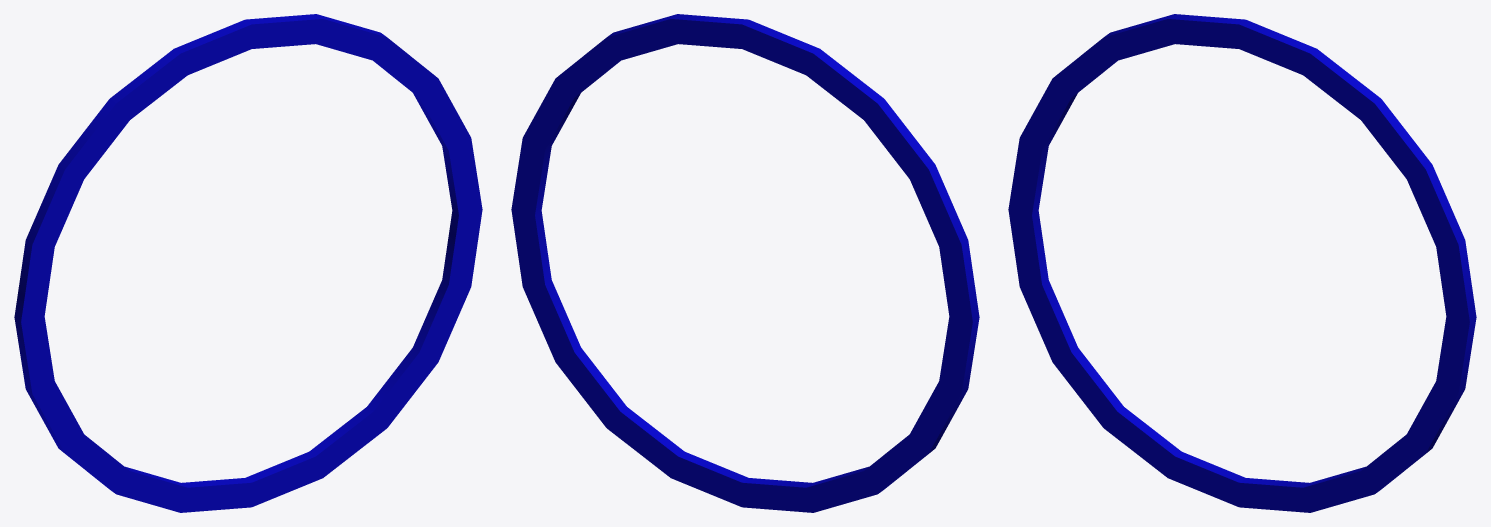
The model's file is RotateGizmo2D.fbx.
The picture shows the model from 3 angles, left to right: view 1: azimuth 30°, elevation 25°; view 2: azimuth 150°, elevation 25°; view 3: azimuth 330°, elevation 25°; orthographic projection.
Parts seen in each view (by area): view 1: GizmoZAxis1; view 2: GizmoZAxis1; view 3: GizmoZAxis1.
Part boxes in pixels (left/top/right/bottom): GizmoZAxis1: left=14, top=14, right=482, bottom=512; GizmoZAxis1: left=511, top=14, right=979, bottom=512; GizmoZAxis1: left=1008, top=14, right=1476, bottom=512.
Size of the model in its own units: 29.37 by 29.37 by 0.7339.
